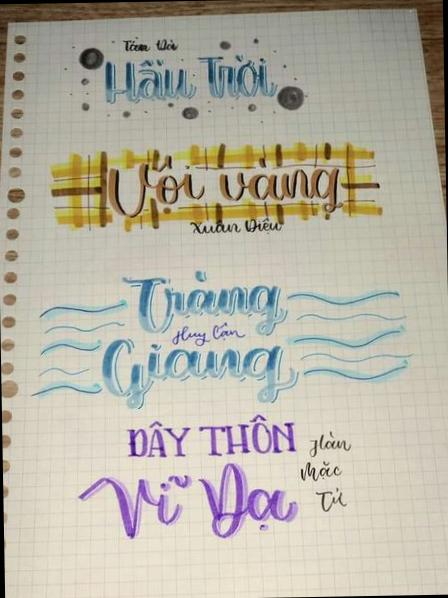text: (76, 457, 300, 546), (104, 150, 345, 221), (99, 332, 301, 414), (121, 264, 290, 341), (102, 52, 280, 106), (125, 411, 299, 460), (170, 320, 248, 348), (190, 215, 282, 238), (306, 426, 354, 458), (122, 32, 181, 56), (298, 457, 346, 484), (314, 484, 350, 516)
